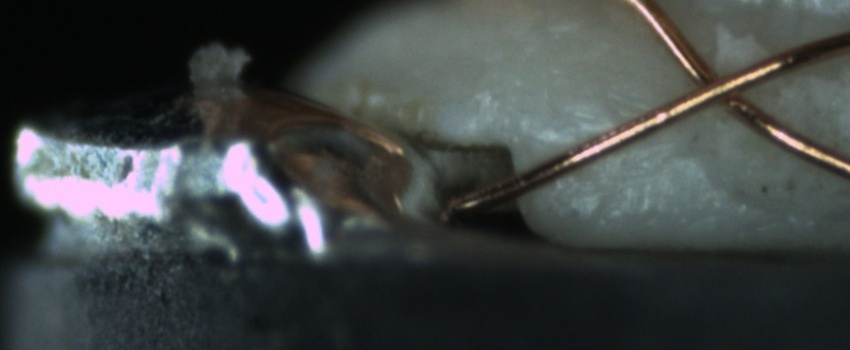CL: (673, 50, 771, 121)
